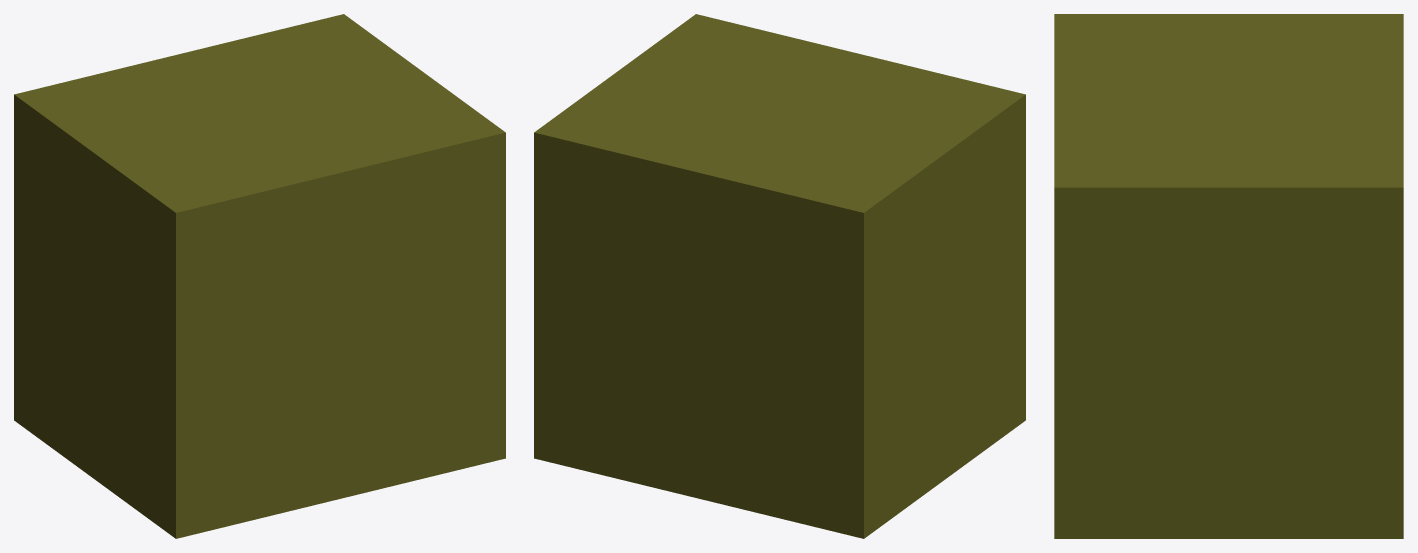
The model's file is blockout_Small_Block.fbx.
The picture shows the model from 3 angles, left to right: view 1: azimuth 30°, elevation 25°; view 2: azimuth 150°, elevation 25°; view 3: azimuth 270°, elevation 25°; orthographic projection. The views are drawn at different scales.
Parts seen in each view (by area): view 1: blockout_Small_Block; view 2: blockout_Small_Block; view 3: blockout_Small_Block.
Part boxes in pixels (bbox=[...]): blockout_Small_Block: bbox=[14, 14, 505, 538]; blockout_Small_Block: bbox=[534, 14, 1025, 538]; blockout_Small_Block: bbox=[1054, 14, 1403, 538].
Bounding box in the file's own units: 36.28 × 34.26 × 30.84.
1 material, 1 textured.
